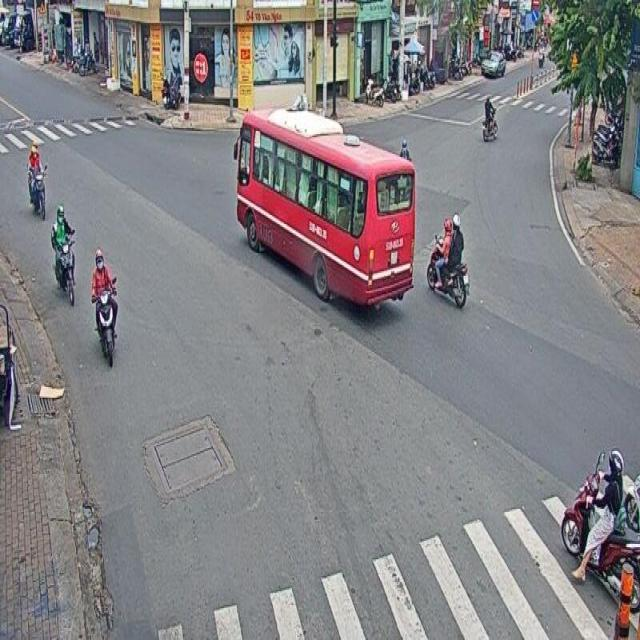bus: (236, 105, 415, 306)
motorcycle: (560, 448, 640, 611), (426, 212, 469, 309), (90, 248, 118, 368), (50, 203, 76, 306), (27, 138, 48, 220), (482, 93, 498, 142)
